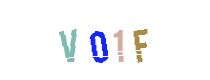0: (59, 0, 139, 80)
1: (65, 0, 145, 80)
F: (99, 0, 179, 80)
V: (48, 0, 128, 80)
